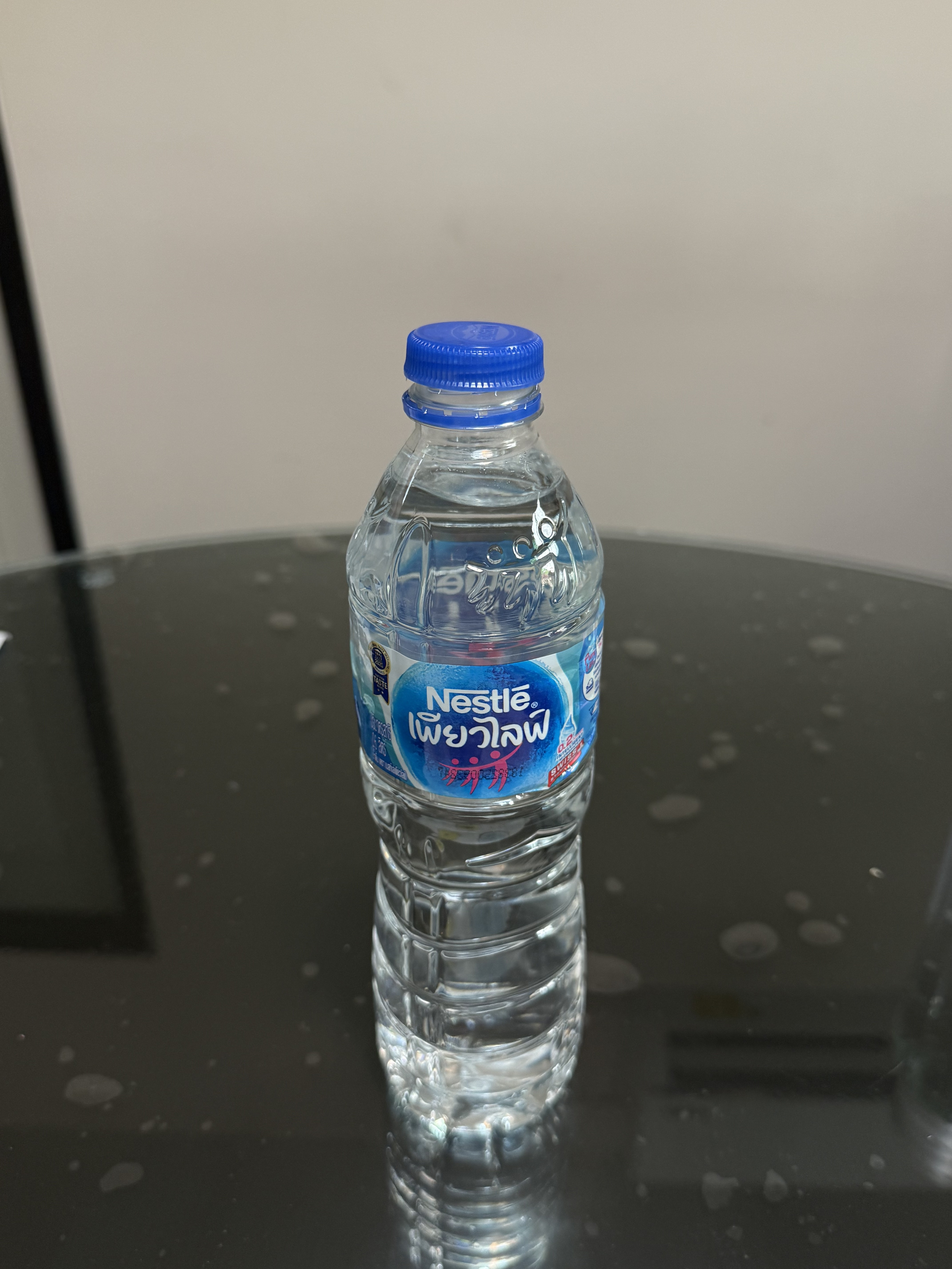half_cap: (396, 313, 548, 426)
